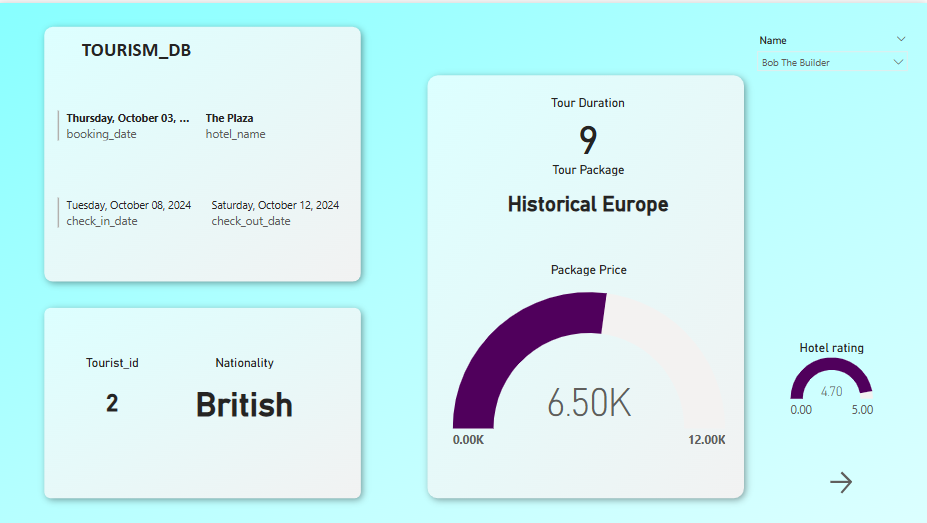

This screenshot's page, from the dashboard's own definition file:
{"tool":"powerbi","page":{"name":"customer ","canvas":[1280,720],"ordinal":0},"visuals":[{"type":"multiRowCard","fields":{"Values":["tourism_db bookings.booking_date","tourism_db hotels.hotel_name"]},"box":[78.4,143.2,405.4,62.2],"z":0},{"type":"multiRowCard","fields":{"Values":["tourism_db hotelreservations.check_in_date","tourism_db hotelreservations.check_out_date"]},"box":[78.4,263.5,421.6,74.3],"z":1000},{"type":"card","title":"Tour Package ","fields":{"Values":["tourism_db tourpackages.package_name"]},"box":[631,218.2,366.9,91.7],"z":2000},{"type":"card","title":"Nationality","fields":{"Values":["tourism_db tourists.nationality"]},"box":[158.1,485.1,364.9,106.8],"z":3000},{"type":"card","title":"Tourist_id","fields":{"Values":["tourism_db tourists.tourist_id"]},"box":[97.3,485.1,121.6,106.8],"z":4000},{"type":"slicer","fields":{"Values":["tourism_db tourists.name"]},"box":[1036.5,39.2,227,66.2],"z":5000},{"type":"gauge","title":"Package  Price","fields":{"Y":["tourism_db tourpackages.price"]},"box":[621.6,356.8,385.1,282.4],"z":6000},{"type":"card","title":"Tour Duration","fields":{"Values":["tourism_db tourpackages.duration_days"]},"box":[745,126.5,137.6,91.7],"z":7000},{"type":"actionButton","box":[1141.2,639.4,100.1,40.3],"z":8000},{"type":"textbox","box":[74.3,39.2,214.9,50],"z":9000},{"type":"gauge","title":"Hotel rating","fields":{"Y":["tourism_db hotels.rating"]},"box":[1053.6,464.2,191.8,116.8],"z":10000}]}

Visuals, with their boxes on the page's 1280x720 design canvas (x1, y1, x2, y2). These are canvas units, not pixel positions in the 927x523 screenshot, which may show the page scaled, cropped or inside an application window:
multiRowCard - tourism_db bookings.booking_date x tourism_db hotels.hotel_name: pyautogui.locateOnScreen(78, 143, 484, 205)
multiRowCard - tourism_db hotelreservations.check_in_date x tourism_db hotelreservations.check_out_date: pyautogui.locateOnScreen(78, 264, 500, 338)
"Tour Package " card: pyautogui.locateOnScreen(631, 218, 998, 310)
"Nationality" card: pyautogui.locateOnScreen(158, 485, 523, 592)
"Tourist_id" card: pyautogui.locateOnScreen(97, 485, 219, 592)
slicer - tourism_db tourists.name: pyautogui.locateOnScreen(1036, 39, 1264, 105)
"Package  Price" gauge: pyautogui.locateOnScreen(622, 357, 1007, 639)
"Tour Duration" card: pyautogui.locateOnScreen(745, 126, 883, 218)
actionButton: pyautogui.locateOnScreen(1141, 639, 1241, 680)
textbox: pyautogui.locateOnScreen(74, 39, 289, 89)
"Hotel rating" gauge: pyautogui.locateOnScreen(1054, 464, 1245, 581)
